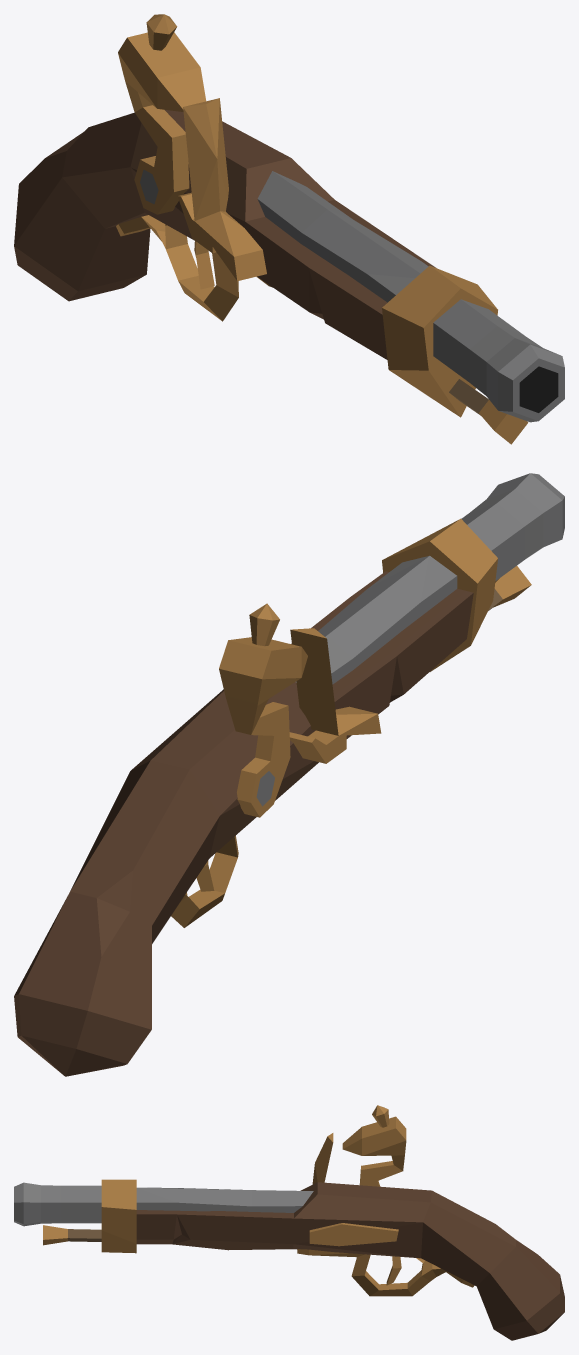
Rendered from SM_Wep_MusketPistol_02.glb.
3 views of the same model, one above another, from view 1: azimuth 30°, elevation 25°; view 2: azimuth 150°, elevation 25°; view 3: azimuth 270°, elevation 25° (orthographic). The views are drawn at different scales.
Parts seen in each view (by area): view 1: SM_Wep_MusketPistol_077; view 2: SM_Wep_MusketPistol_077; view 3: SM_Wep_MusketPistol_077.
Part boxes in pixels (<box>): SM_Wep_MusketPistol_077: <box>14,14,564,444</box>; SM_Wep_MusketPistol_077: <box>14,473,564,1076</box>; SM_Wep_MusketPistol_077: <box>14,1105,564,1340</box>.
Size of the model in its own units: 0.000955 by 0.00246 by 0.00574.
